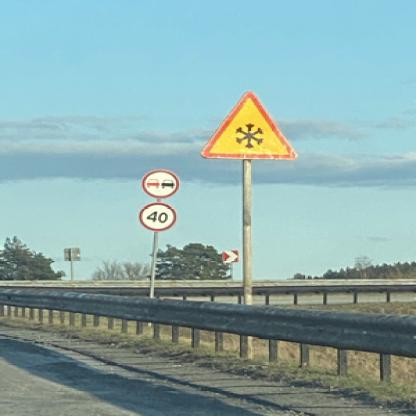speedlimit: (136, 201, 175, 230)
